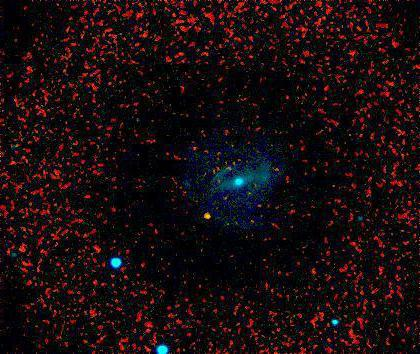star: (193, 202, 223, 232)
